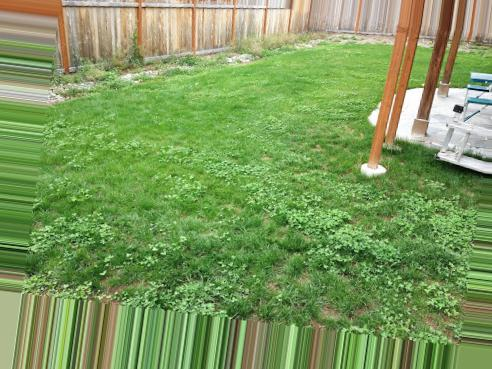patch: (367, 35, 393, 43), (119, 72, 149, 77)
